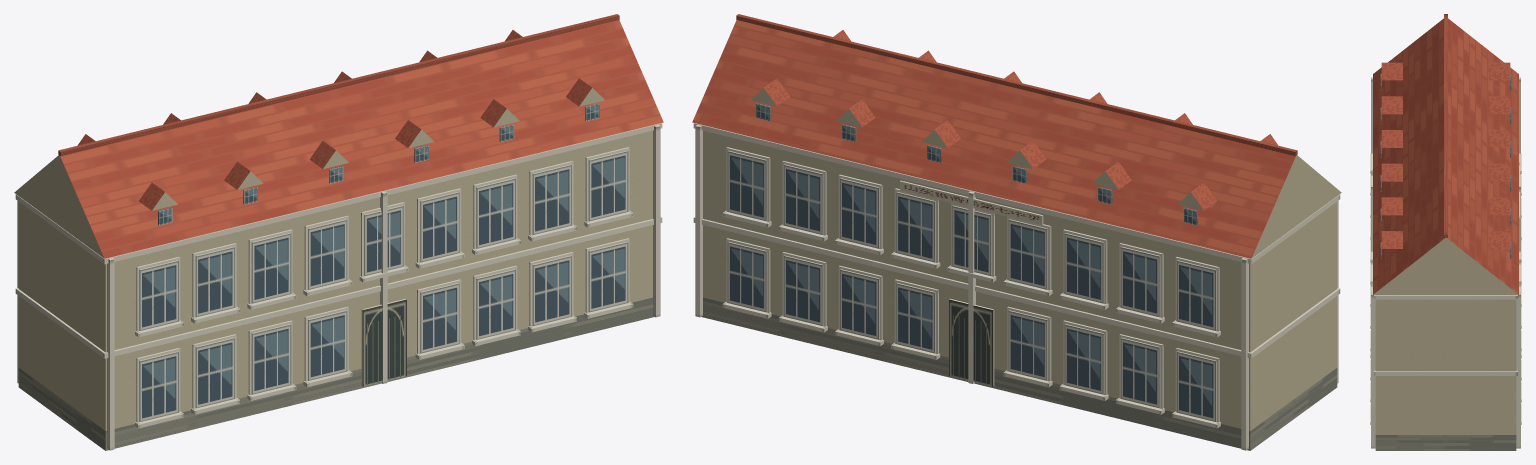
The model's file is SM_QD_School_NorthTeaching.fbx.
3 renders of one model, left to right at view 1: azimuth 30°, elevation 25°; view 2: azimuth 150°, elevation 25°; view 3: azimuth 270°, elevation 25°, orthographic. The views are drawn at different scales.
Visible parts, largest first — view 1: SM_QD_School_NorthTeaching; view 2: SM_QD_School_NorthTeaching; view 3: SM_QD_School_NorthTeaching.
Boxes of the visible parts, x1,y1,x2,y2 form: SM_QD_School_NorthTeaching: (14, 14, 663, 450); SM_QD_School_NorthTeaching: (692, 14, 1341, 450); SM_QD_School_NorthTeaching: (1370, 14, 1521, 450).
Size of the model in its own units: 14.14 by 4.1 by 6.49.
1 material, 1 textured.
